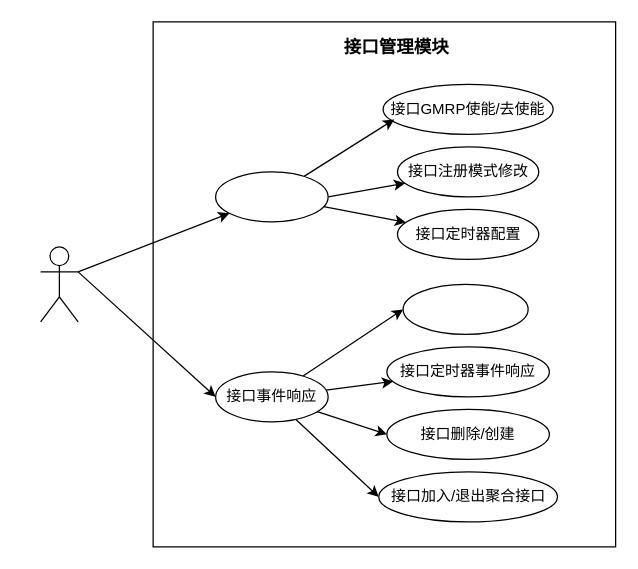
The diagram is 638 pixels wide and 569 high, and some of its shapes have lost their labels. Here are the shapes that lost their labels. From the top down, the centre of each, then its label:
At point (271, 196): "接口配置管理".
At point (58, 284): "系统管理员".
At point (465, 308): "接口激活/去激活".
